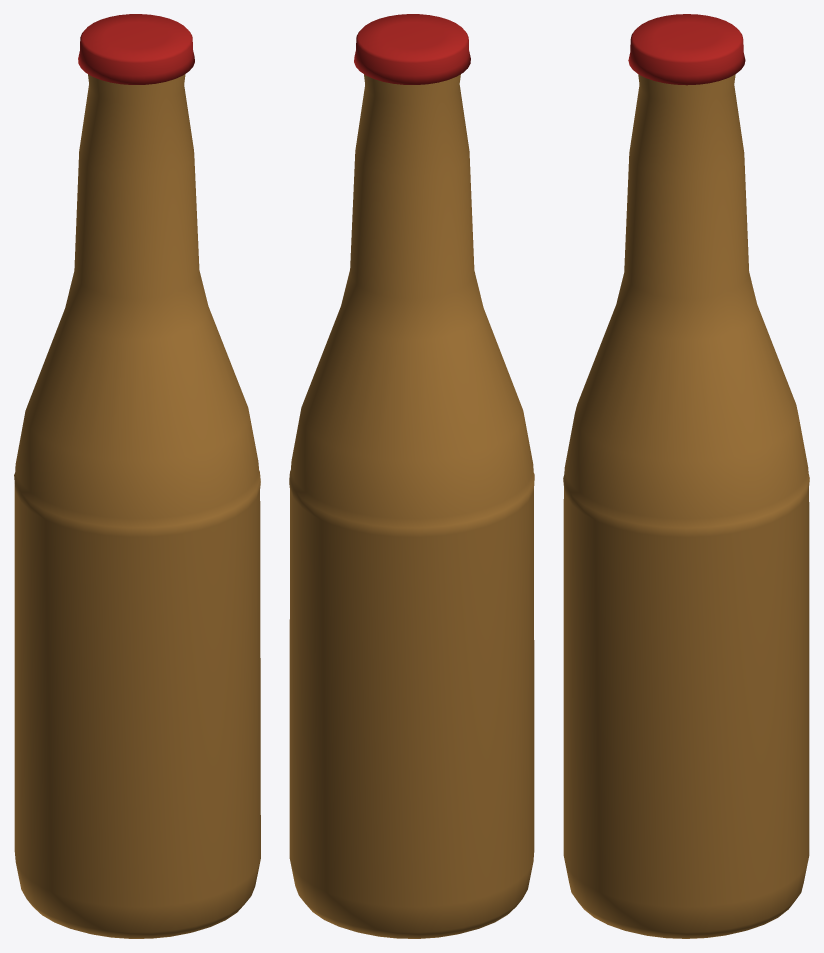
The model's file is bottle_longneck_lod1.glb.
3 renders of one model, left to right at view 1: azimuth 30°, elevation 25°; view 2: azimuth 150°, elevation 25°; view 3: azimuth 270°, elevation 25°, orthographic.
Parts seen in each view (by area): view 1: Glass, Cap; view 2: Glass, Cap; view 3: Glass, Cap.
Boxes of the visible parts, x1,y1,x2,y2 form: Glass: [14, 74, 260, 938]; Cap: [78, 14, 194, 84]; Glass: [289, 74, 534, 938]; Cap: [354, 14, 470, 84]; Glass: [563, 74, 809, 938]; Cap: [628, 14, 745, 85].
Size of the model in its own units: 0.0624 by 0.2403 by 0.0625.
